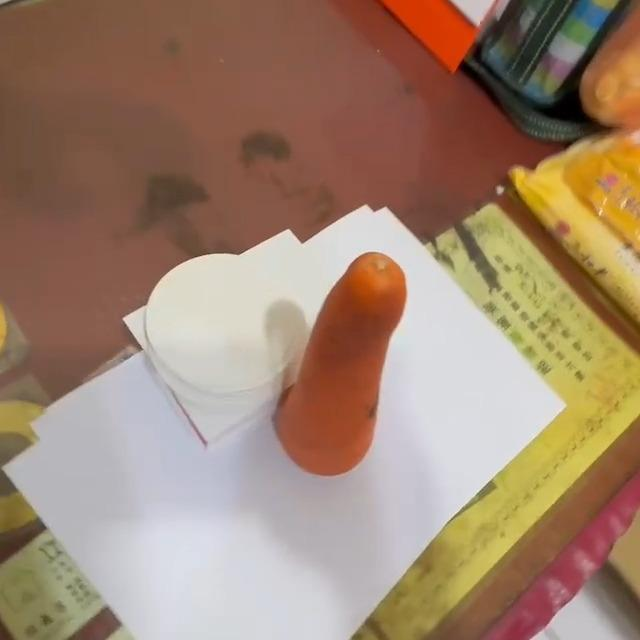carrot: (280, 253, 407, 478)
